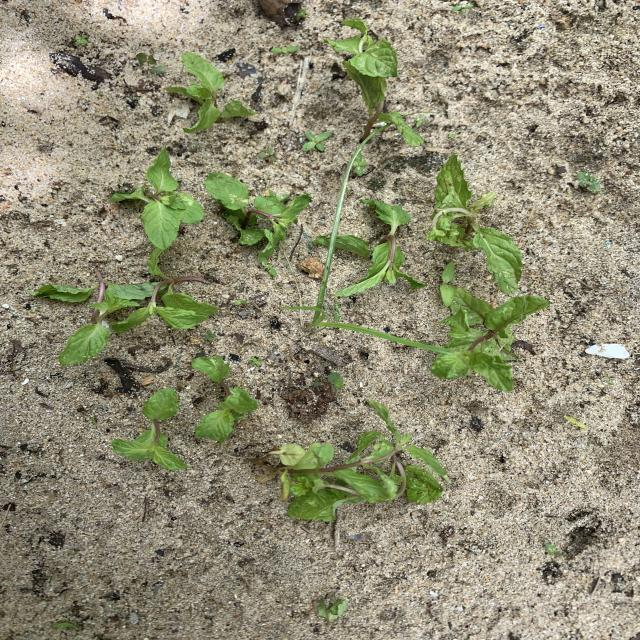crop: (31, 249, 215, 363), (279, 400, 447, 521), (429, 154, 523, 294), (325, 19, 423, 146), (432, 286, 548, 391), (205, 172, 310, 273), (111, 148, 203, 256), (335, 201, 423, 295), (166, 52, 255, 131), (113, 388, 187, 471)
weed: (280, 133, 449, 354), (191, 356, 258, 444), (317, 598, 347, 623), (440, 261, 455, 307), (314, 372, 343, 394), (137, 52, 164, 75), (302, 132, 330, 151), (576, 172, 600, 191), (352, 153, 368, 177), (565, 416, 587, 430), (450, 0, 473, 13), (259, 147, 276, 162), (272, 45, 299, 54), (72, 33, 88, 47), (53, 621, 80, 629), (332, 302, 341, 321), (203, 330, 216, 343), (412, 116, 426, 127), (251, 357, 263, 366), (297, 9, 306, 18), (234, 299, 246, 305)
